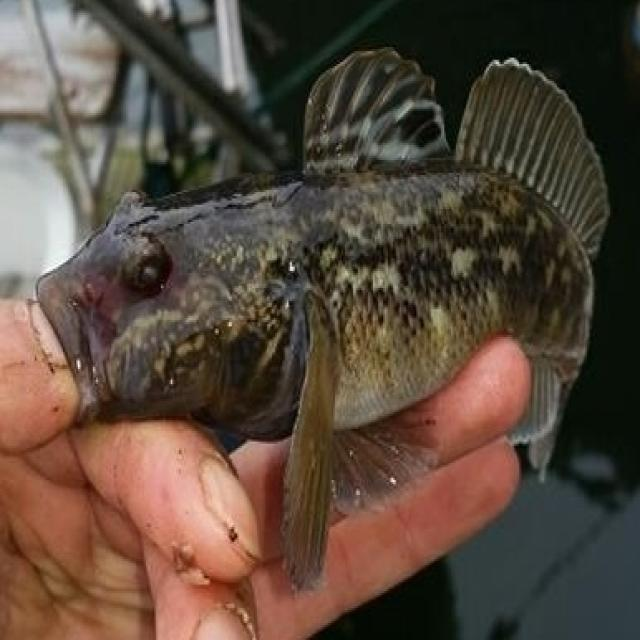Goby: (18, 10, 611, 607)
